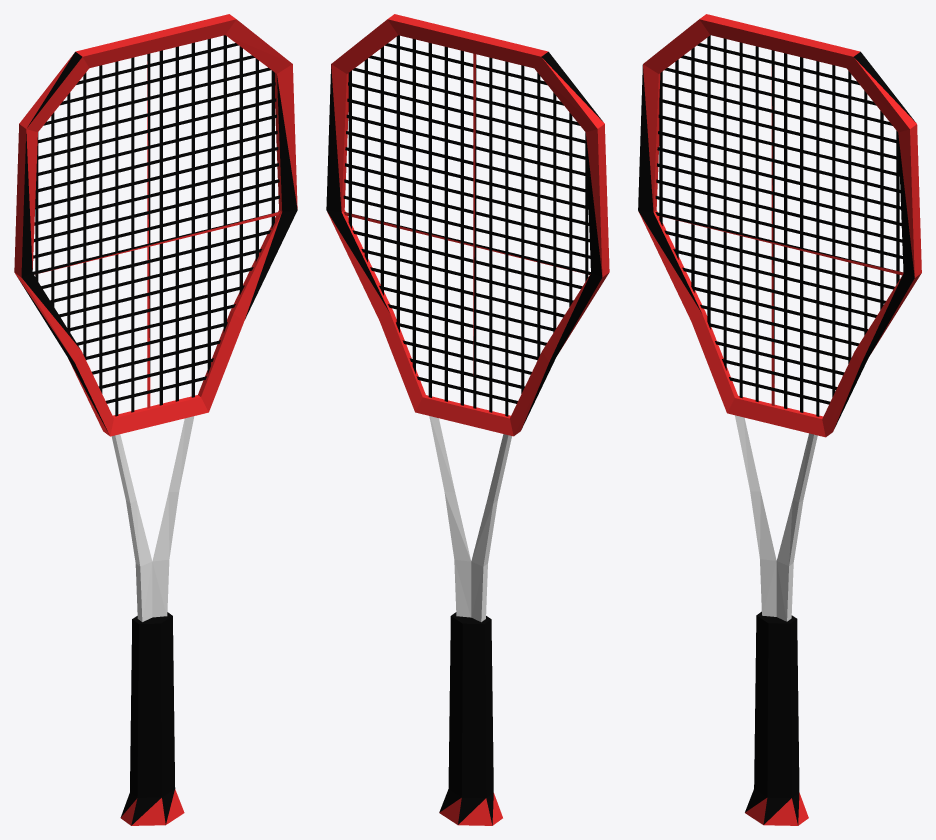
Rendered from Squash_Racket_1.fbx.
3 views of the same model, side by side, from view 1: azimuth 30°, elevation 25°; view 2: azimuth 150°, elevation 25°; view 3: azimuth 330°, elevation 25° (orthographic).
Parts seen in each view (by area): view 1: Squash_Racket_1; view 2: Squash_Racket_1; view 3: Squash_Racket_1.
Part boxes in pixels (x1,y1,x2,y2): Squash_Racket_1: [14, 14, 297, 825]; Squash_Racket_1: [326, 14, 609, 825]; Squash_Racket_1: [638, 14, 921, 825].
Size of the model in its own units: 23.21 by 62.6 by 3.86.
